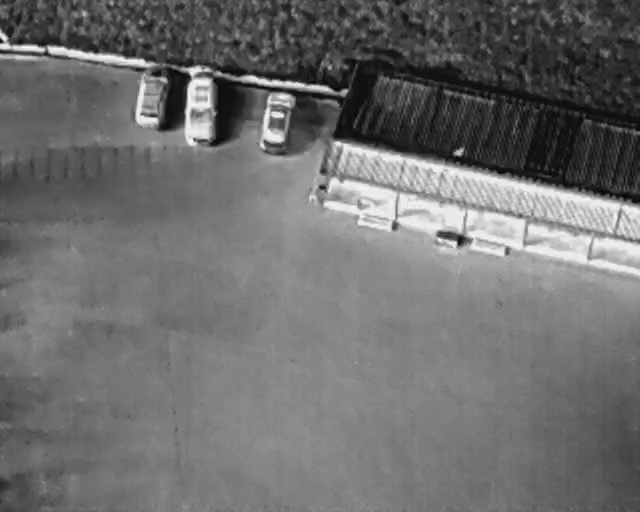Car: (131, 59, 176, 133), (256, 88, 296, 153), (186, 66, 218, 147)
